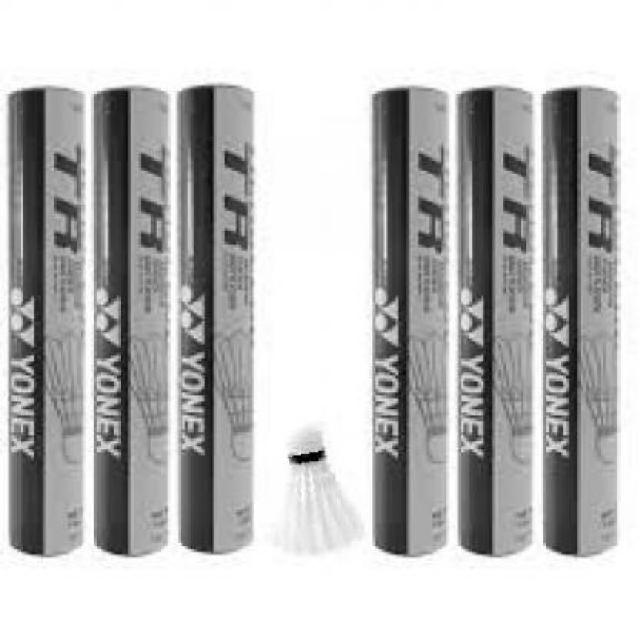Shuttlecock: (268, 423, 366, 559)
